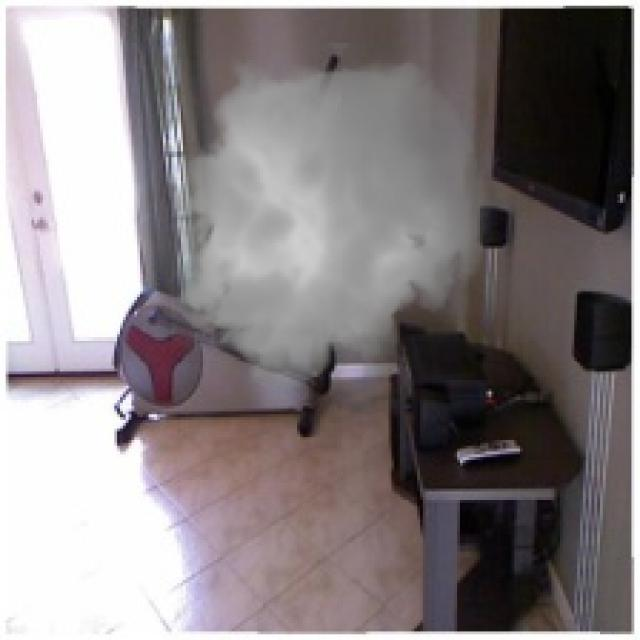smoke: (157, 43, 500, 403)
